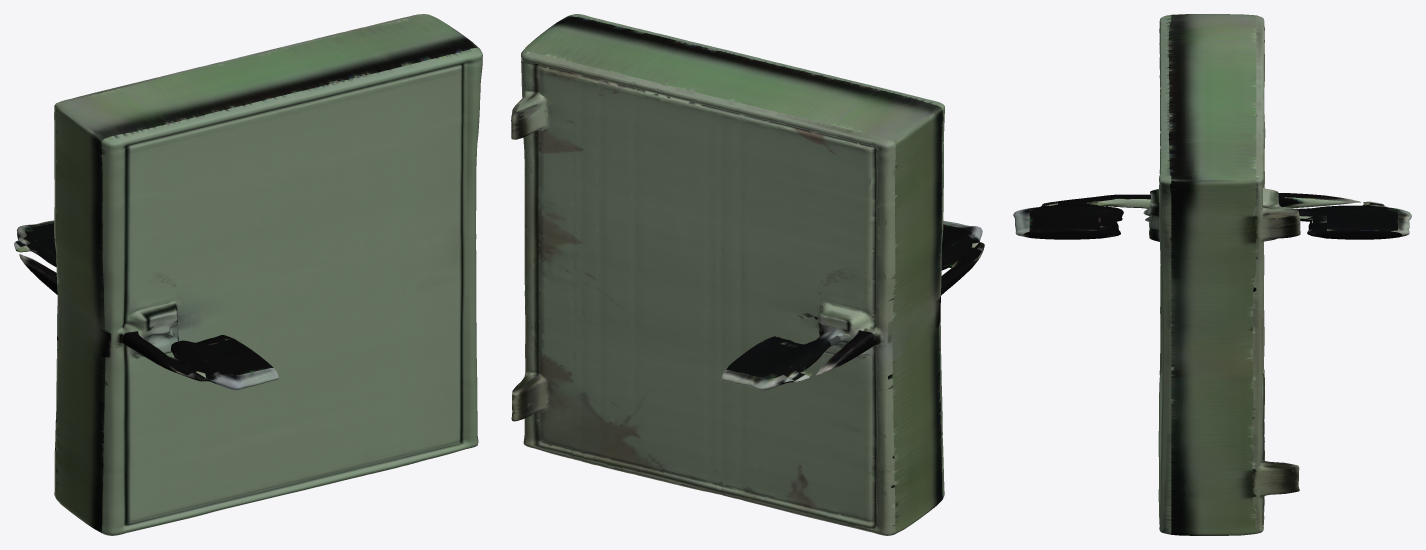
The model's file is door-steel.glb.
3 renders of one model, left to right at view 1: azimuth 30°, elevation 25°; view 2: azimuth 150°, elevation 25°; view 3: azimuth 270°, elevation 25°, orthographic. The views are drawn at different scales.
Parts seen in each view (by area): view 1: tmpeqw4_lbq.ply; view 2: tmpeqw4_lbq.ply; view 3: tmpeqw4_lbq.ply.
Part boxes in pixels (box(x1,y1,x2,y2)): tmpeqw4_lbq.ply: box(14, 14, 482, 535); tmpeqw4_lbq.ply: box(511, 14, 984, 535); tmpeqw4_lbq.ply: box(1013, 14, 1411, 535).
Size of the model in its own units: 1 by 1 by 1.
Materials: 1 (1 with a texture image).
